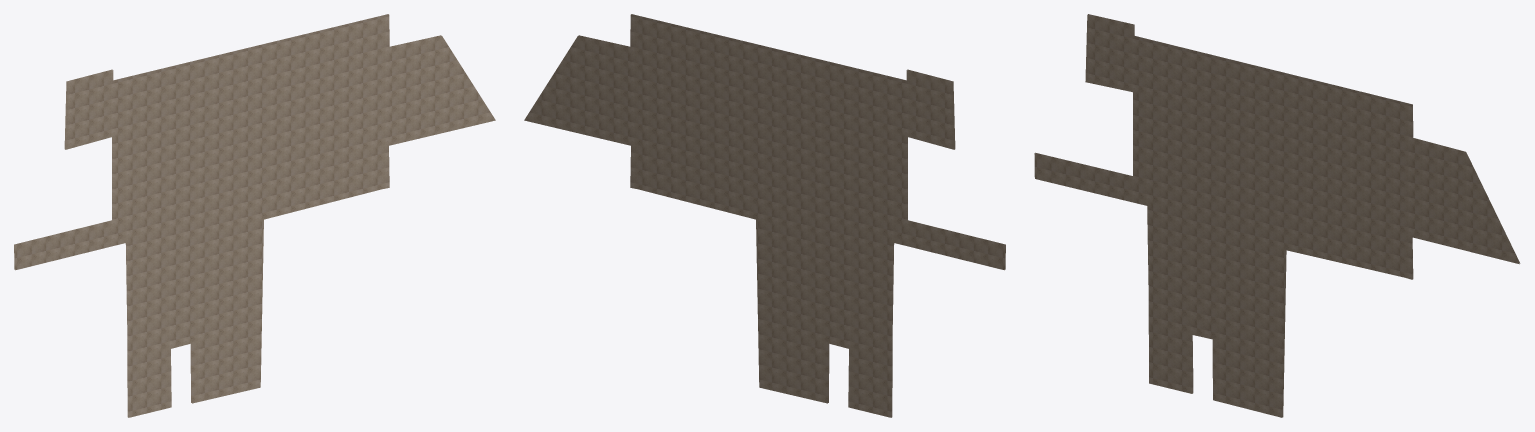
Rendered from floor_28.obj.
3 views of the same model, side by side, from view 1: azimuth 30°, elevation 25°; view 2: azimuth 150°, elevation 25°; view 3: azimuth 330°, elevation 25° (orthographic).
Parts seen in each view (by area): view 1: floor_28; view 2: floor_28; view 3: floor_28.
Part boxes in pixels (bbox=[...]): floor_28: bbox=[14, 14, 495, 417]; floor_28: bbox=[524, 14, 1005, 417]; floor_28: bbox=[1034, 14, 1520, 417].
Bounding box in the file's own units: 33.39 × 23.45 × 0.1.
Materials: 1 (1 with a texture image).
